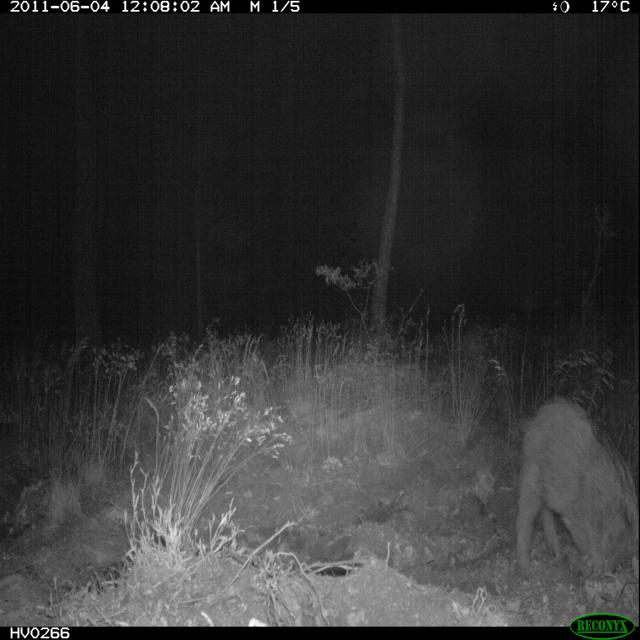boar: (497, 368, 640, 611)
